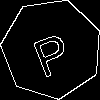P: (26, 24, 75, 79)
